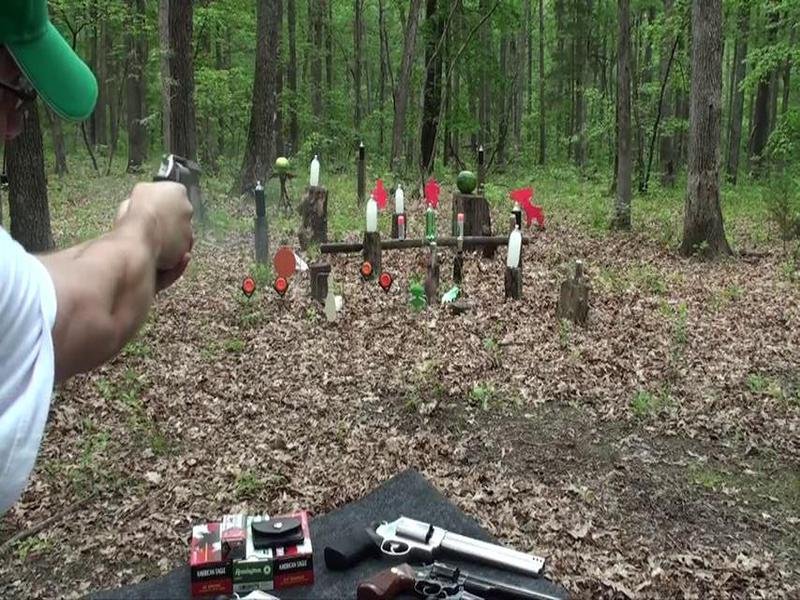Revolver: (147, 144, 219, 219)
